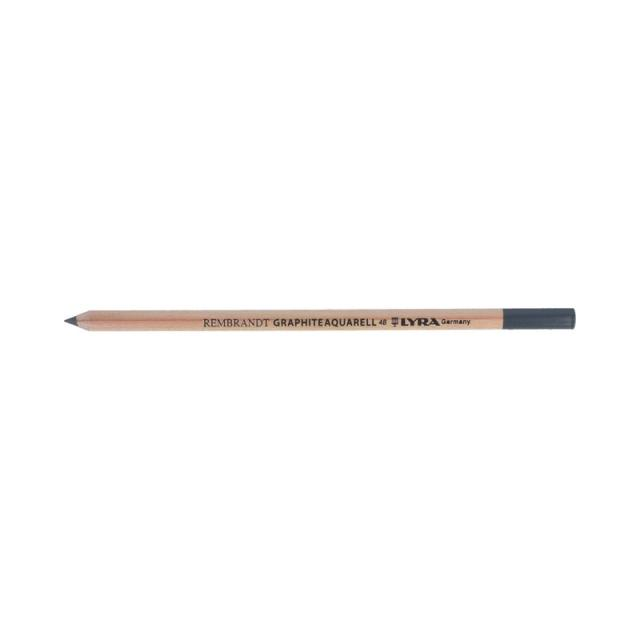pencil: (56, 306, 581, 343)
